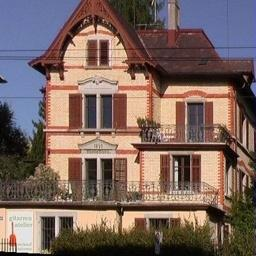building: (31, 0, 234, 256)
